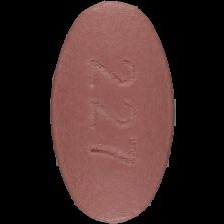61786-843: (0, 0, 224, 224)
